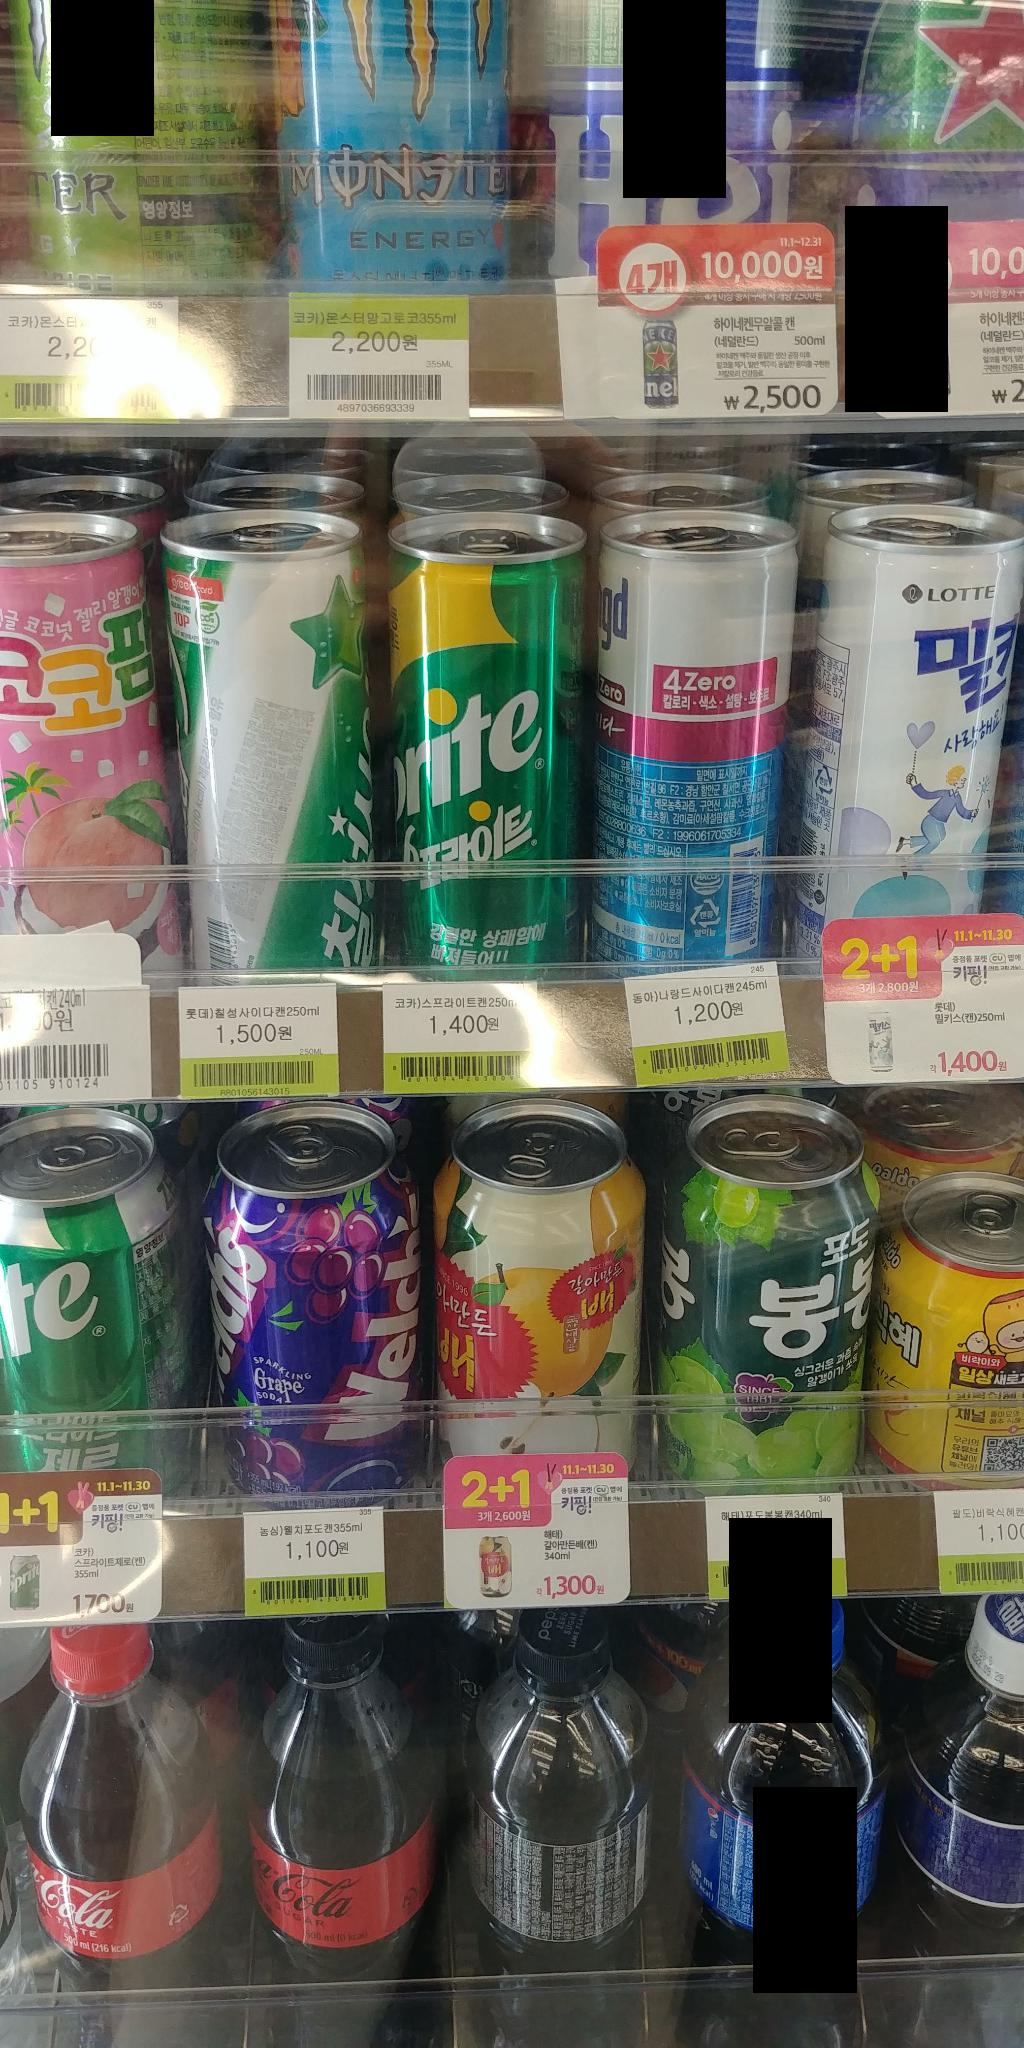narangdcider: (576, 490, 789, 977)
welchs_grape: (188, 1097, 443, 1510)
